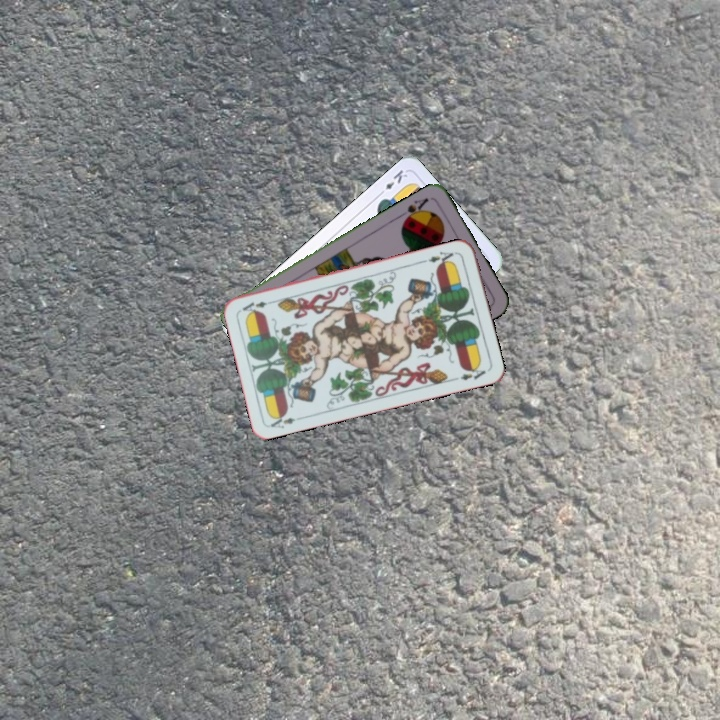EA: (266, 409, 306, 431), (419, 247, 460, 268)
EK: (374, 165, 410, 198)
SA: (396, 194, 431, 225)
